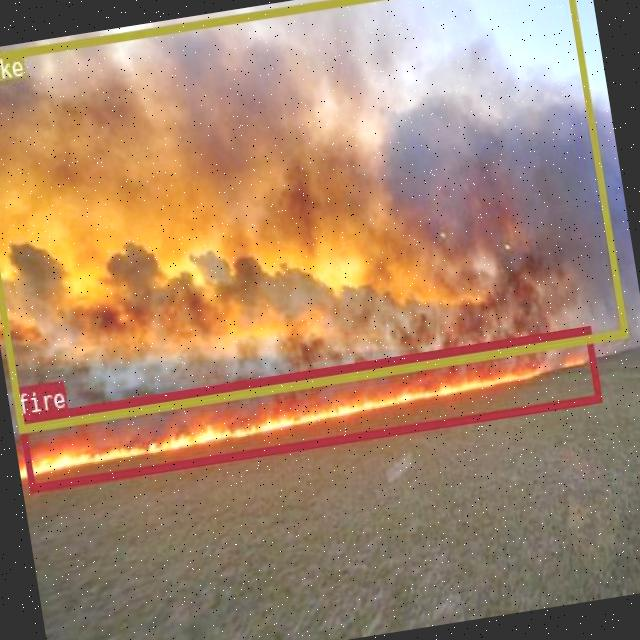fire: (17, 324, 601, 492)
smoke: (0, 0, 626, 431)
